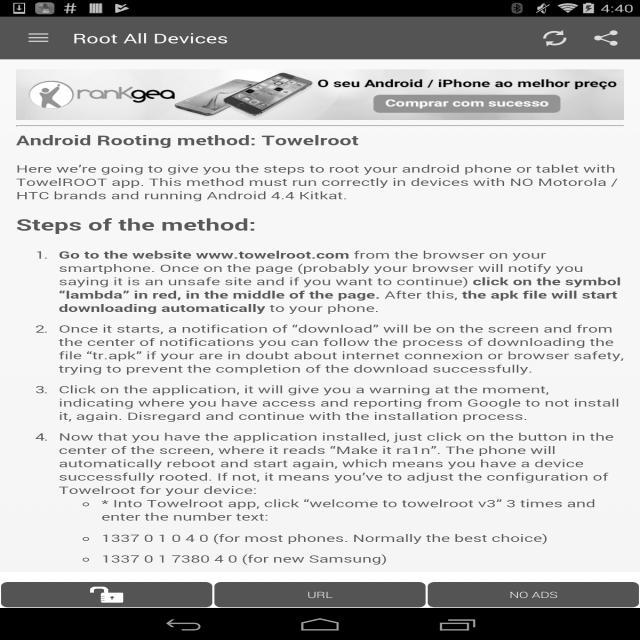Button: (214, 582, 426, 607), (1, 582, 212, 607), (428, 582, 639, 607)
ImageButton: (9, 19, 68, 57)
TextView: (73, 29, 228, 47), (580, 22, 632, 54), (529, 22, 580, 54)
